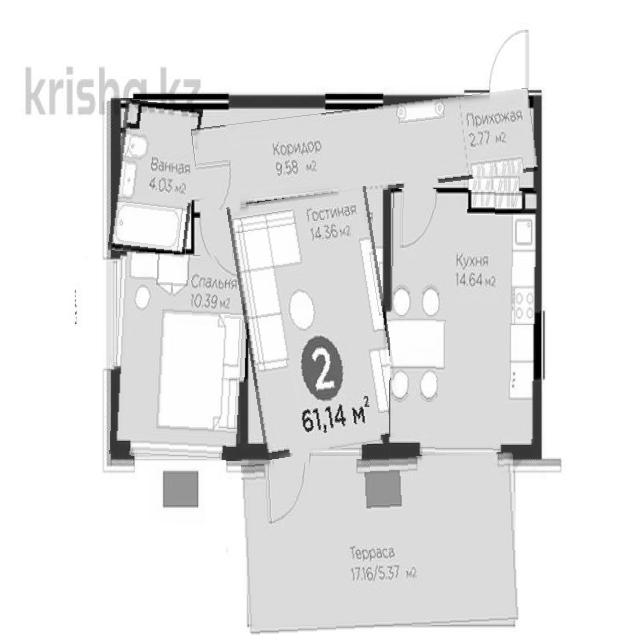balcony: (243, 455, 520, 632)
bathroom: (113, 101, 199, 258)
hallway: (193, 98, 536, 202)
kitchen: (389, 190, 540, 457)
living_room: (235, 191, 396, 455), (112, 253, 250, 459)
